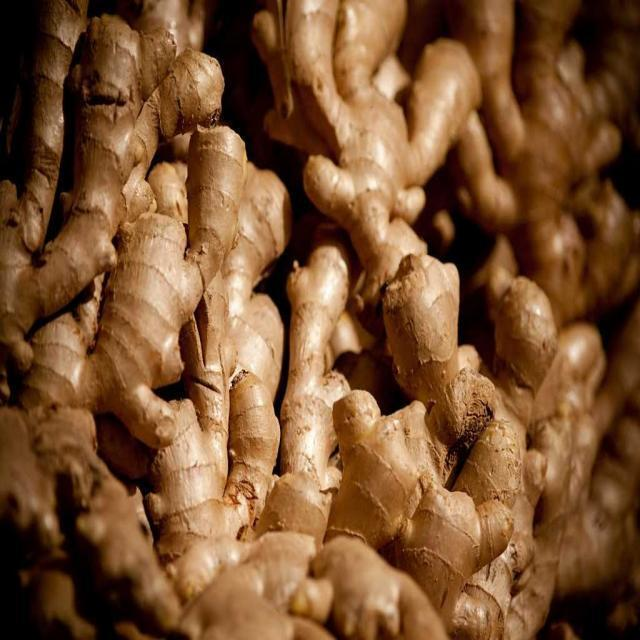ginger: (36, 98, 384, 600)
